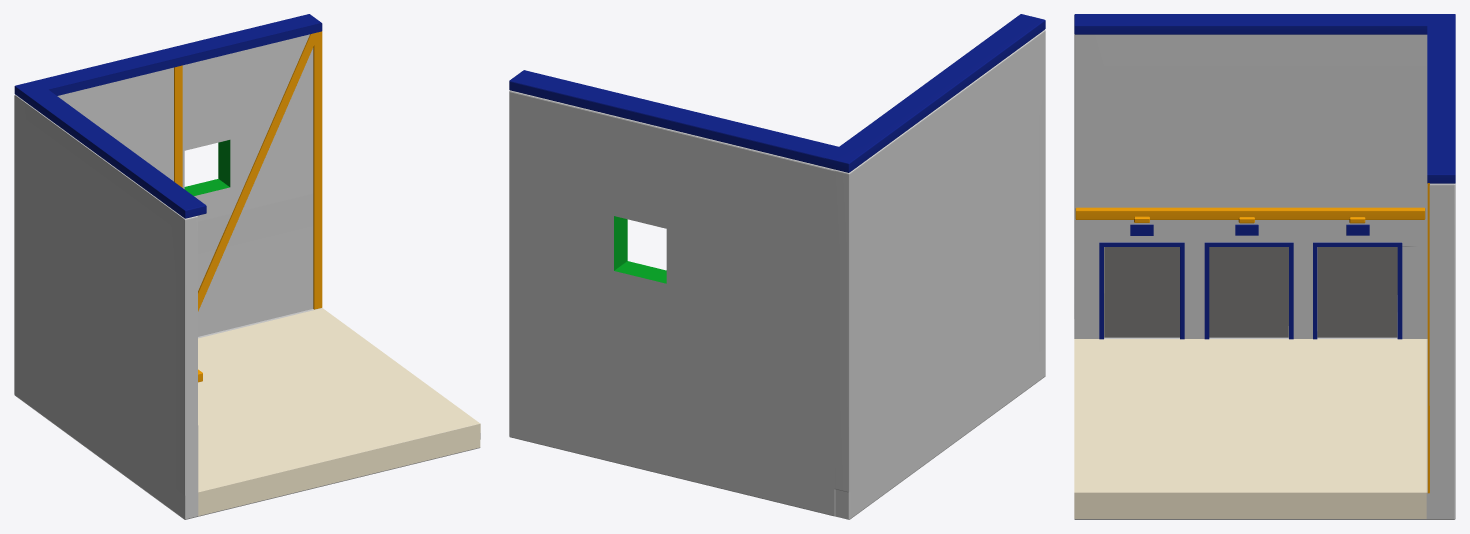
File: cube_sta3.fbx
The picture shows the model from 3 angles, left to right: view 1: azimuth 30°, elevation 25°; view 2: azimuth 150°, elevation 25°; view 3: azimuth 270°, elevation 25°; orthographic projection. The views are drawn at different scales.
Visible parts, largest first — view 1: polySurface62; view 2: polySurface62; view 3: polySurface62.
Part boxes in pixels (box(x1,y1,x2,y2)): polySurface62: box(14, 14, 480, 519); polySurface62: box(509, 14, 1045, 519); polySurface62: box(1074, 14, 1455, 519).
Size of the model in its own units: 6.49 by 6.5 by 6.5.
